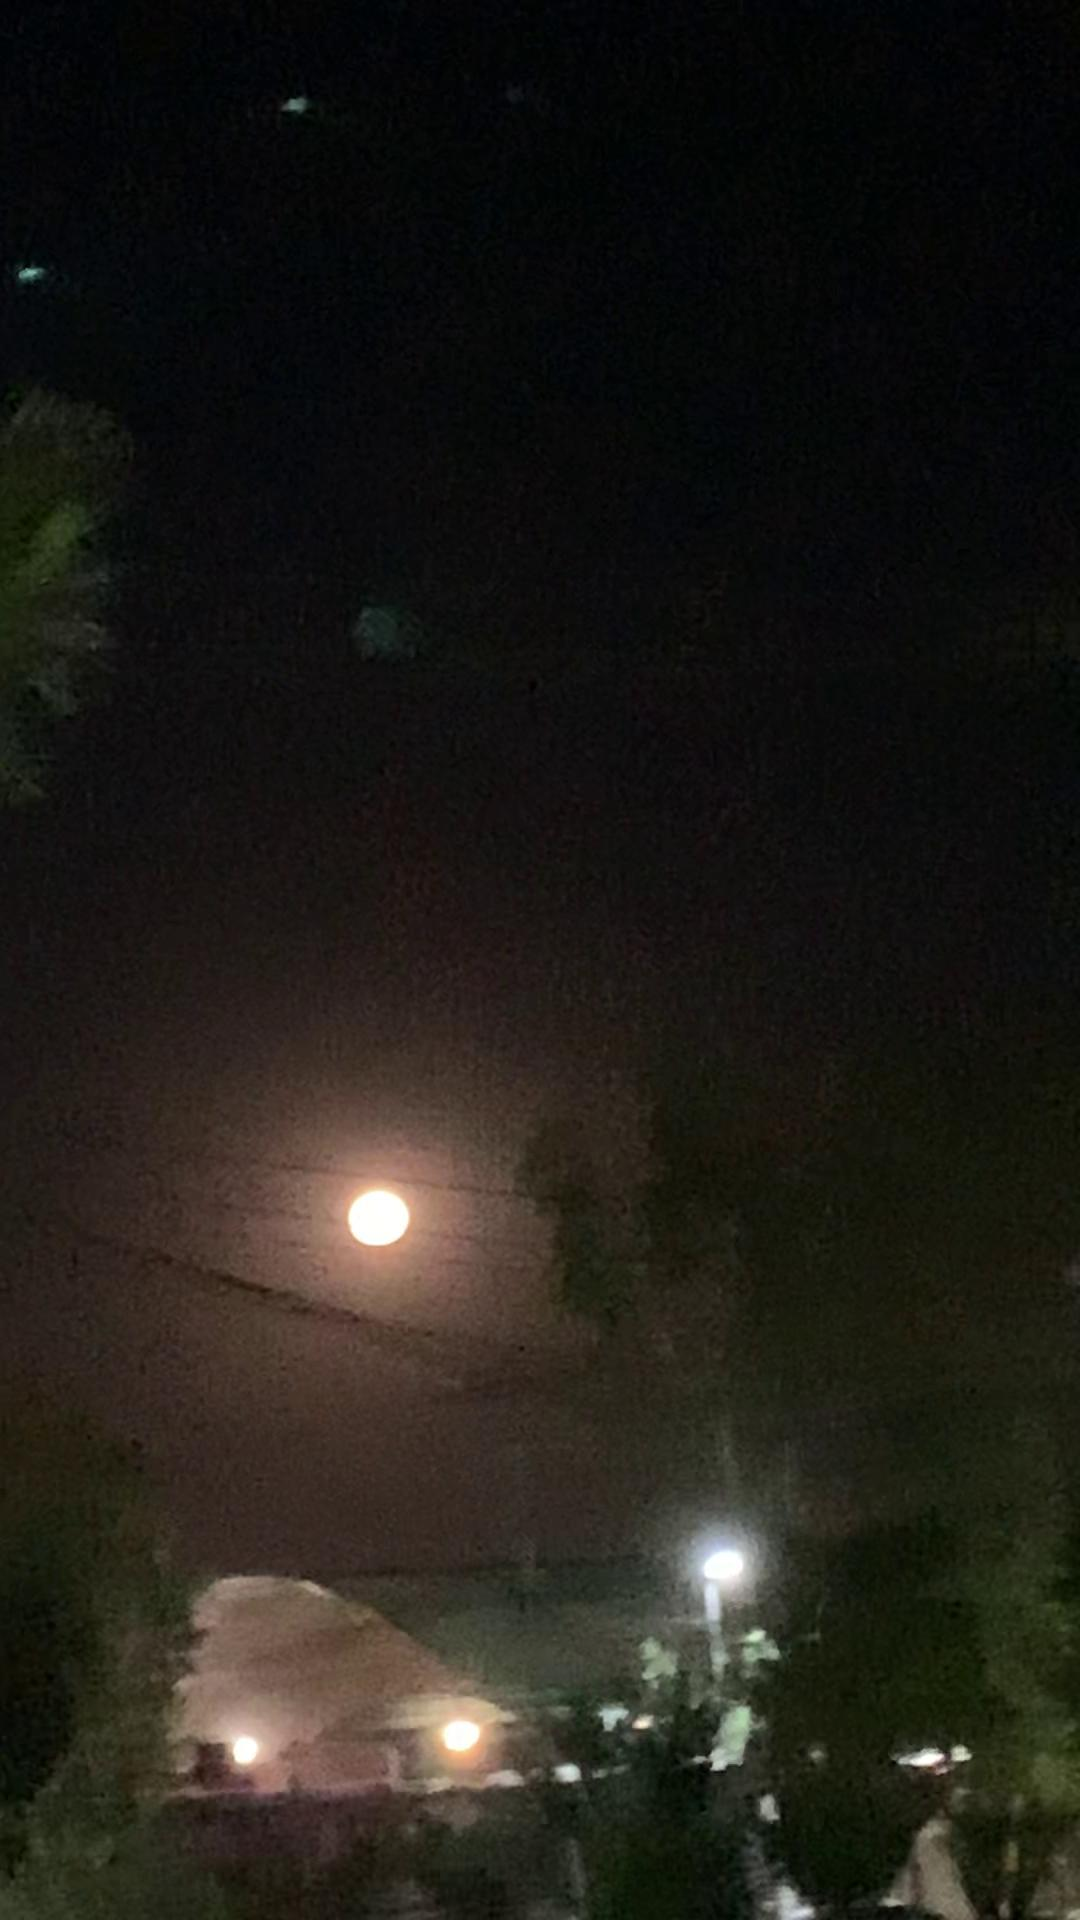moon: (330, 1179, 430, 1263)
